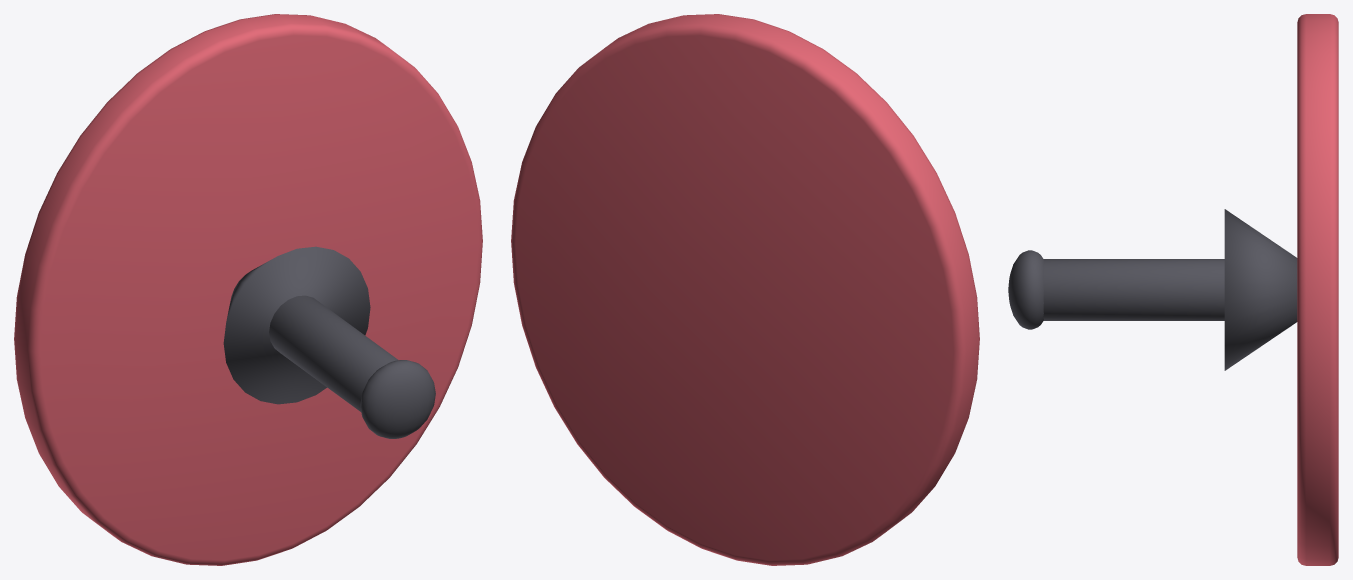
The model's file is paddle.glb.
The picture shows the model from 3 angles, left to right: view 1: azimuth 30°, elevation 25°; view 2: azimuth 150°, elevation 25°; view 3: azimuth 270°, elevation 25°; orthographic projection. The views are drawn at different scales.
Visible parts, largest first — view 1: Paddle; view 2: Paddle; view 3: Paddle.
Boxes of the visible parts, x1,y1,x2,y2 form: Paddle: (14, 14, 482, 565); Paddle: (511, 14, 979, 565); Paddle: (1008, 14, 1338, 565).
Size of the model in its own units: 0.34 by 0.38 by 0.2229.
